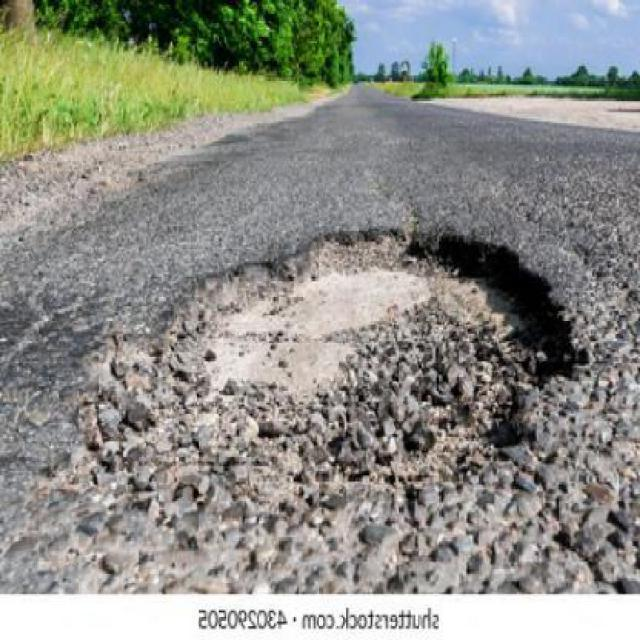pothole: (56, 220, 582, 506)
